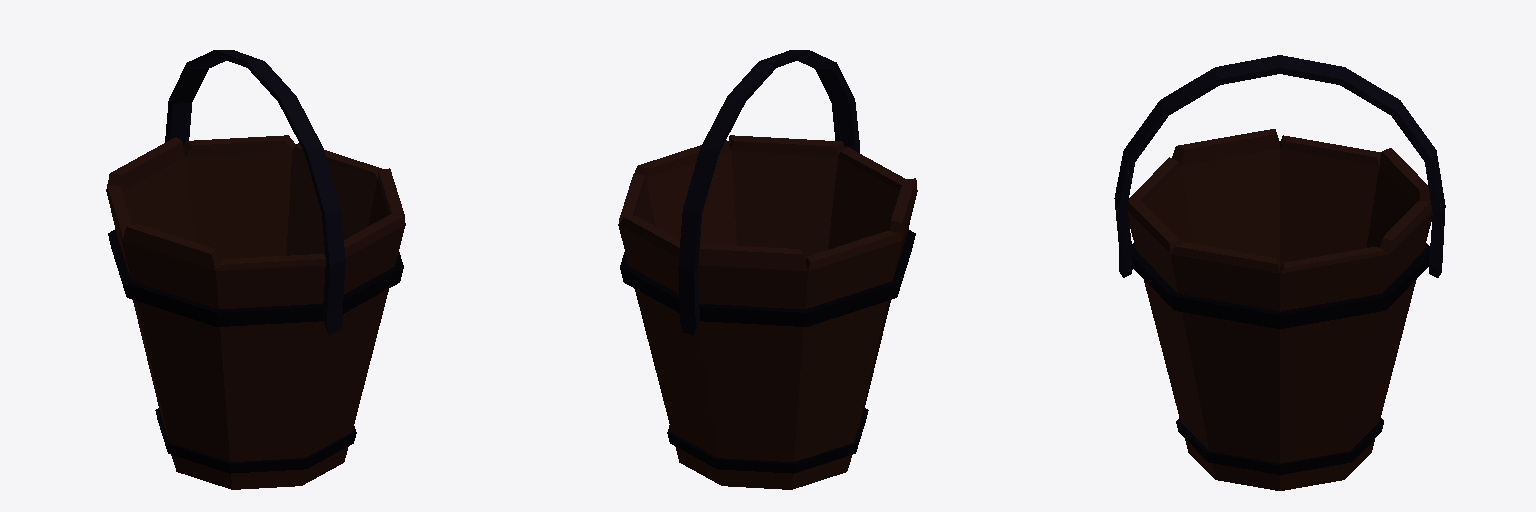
Rendered from Bucket.obj.
3 renders of one model, left to right at view 1: azimuth 30°, elevation 25°; view 2: azimuth 150°, elevation 25°; view 3: azimuth 270°, elevation 25°, orthographic.
Parts seen in each view (by area): view 1: Bucket.001; view 2: Bucket.001; view 3: Bucket.001.
Boxes of the visible parts, box(x1,y1,x2,y2) form: Bucket.001: box(106, 50, 405, 489); Bucket.001: box(618, 50, 917, 489); Bucket.001: box(1114, 55, 1445, 490).
Size of the model in its own units: 0.3782 by 0.5294 by 0.4041.